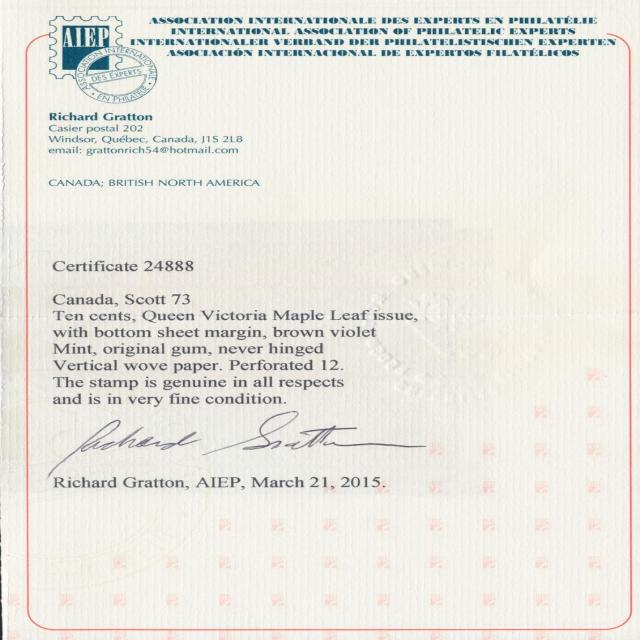signature: (44, 406, 429, 472)
